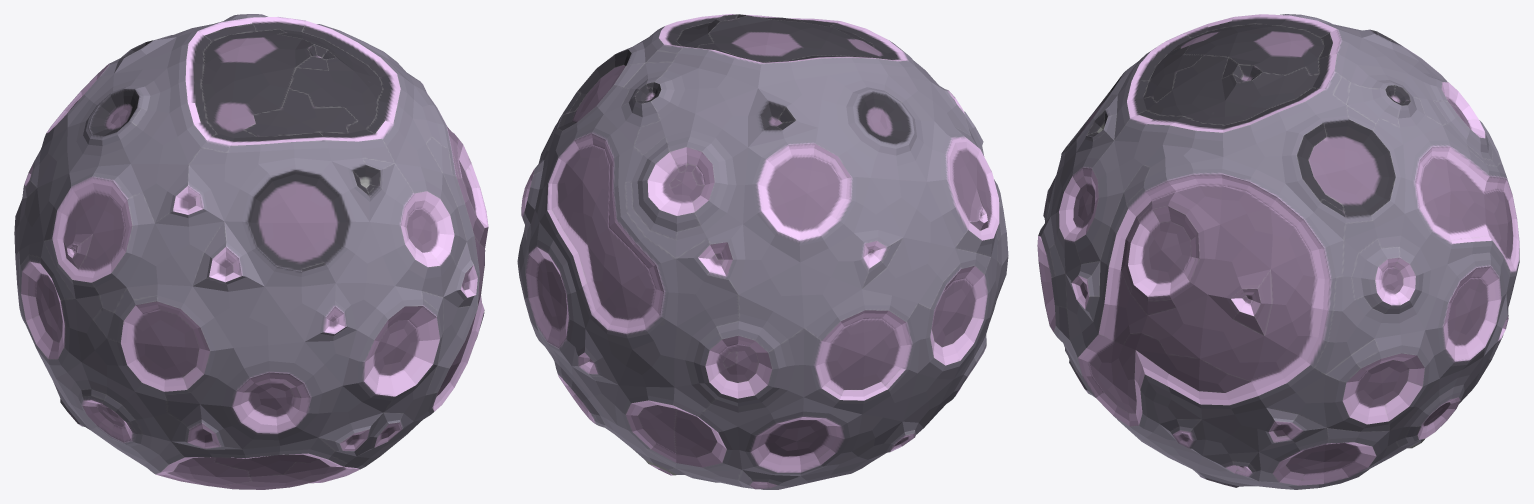
File: MoonFase2.fbx
3 renders of one model, left to right at view 1: azimuth 30°, elevation 25°; view 2: azimuth 150°, elevation 25°; view 3: azimuth 270°, elevation 25°, orthographic.
Visible parts, largest first — view 1: 1226 Moon, 1226 Moon.001; view 2: 1226 Moon, 1226 Moon.001; view 3: 1226 Moon, 1226 Moon.001.
Part boxes in pixels (x1=…): 1226 Moon: x1=14, y1=14, x2=488, y2=489; 1226 Moon.001: x1=105, y1=16, x2=400, y2=263; 1226 Moon: x1=517, y1=14, x2=1008, y2=489; 1226 Moon.001: x1=572, y1=14, x2=907, y2=137; 1226 Moon: x1=1037, y1=14, x2=1519, y2=489; 1226 Moon.001: x1=1078, y1=14, x2=1400, y2=205.
Bounding box in the file's own units: 7423 × 7397 × 7595.
1 material, 1 textured.
